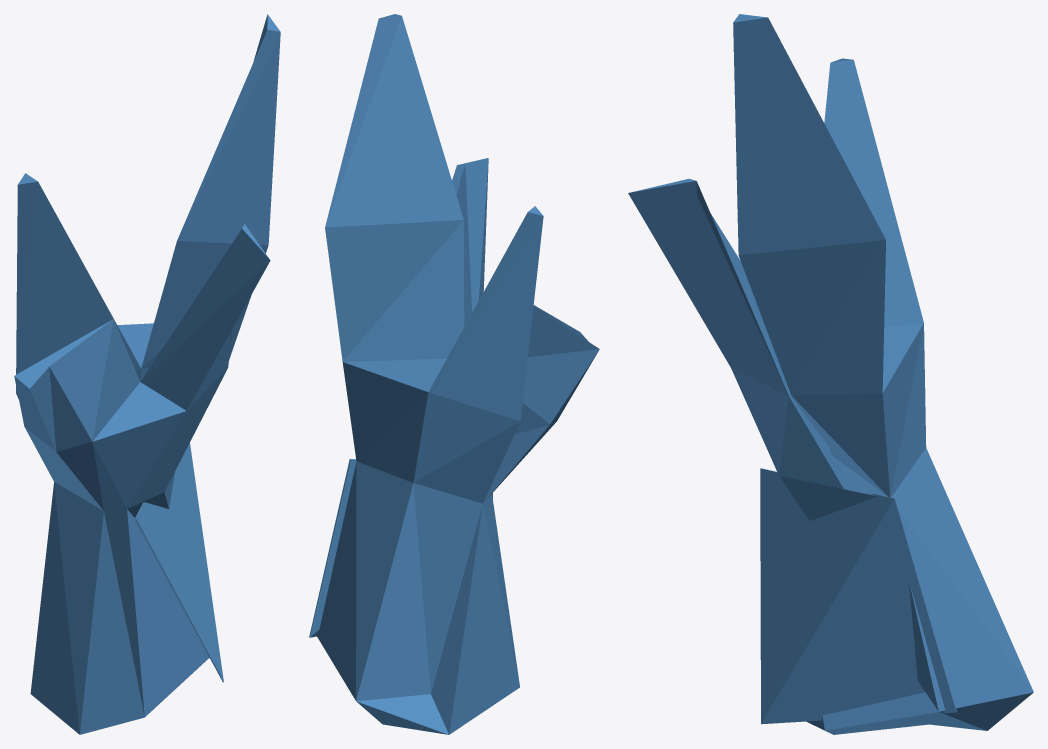
The model's file is Glacier.fbx.
3 renders of one model, left to right at view 1: azimuth 30°, elevation 25°; view 2: azimuth 150°, elevation 25°; view 3: azimuth 270°, elevation 25°, orthographic. The views are drawn at different scales.
Visible parts, largest first — view 1: Glacier; view 2: Glacier; view 3: Glacier.
Boxes of the visible parts, left/top/right/bottom form: Glacier: left=14, top=14, right=280, bottom=734; Glacier: left=309, top=14, right=599, bottom=734; Glacier: left=628, top=14, right=1033, bottom=734.
Bounding box in the file's own units: 69.53 × 181 × 85.15.
